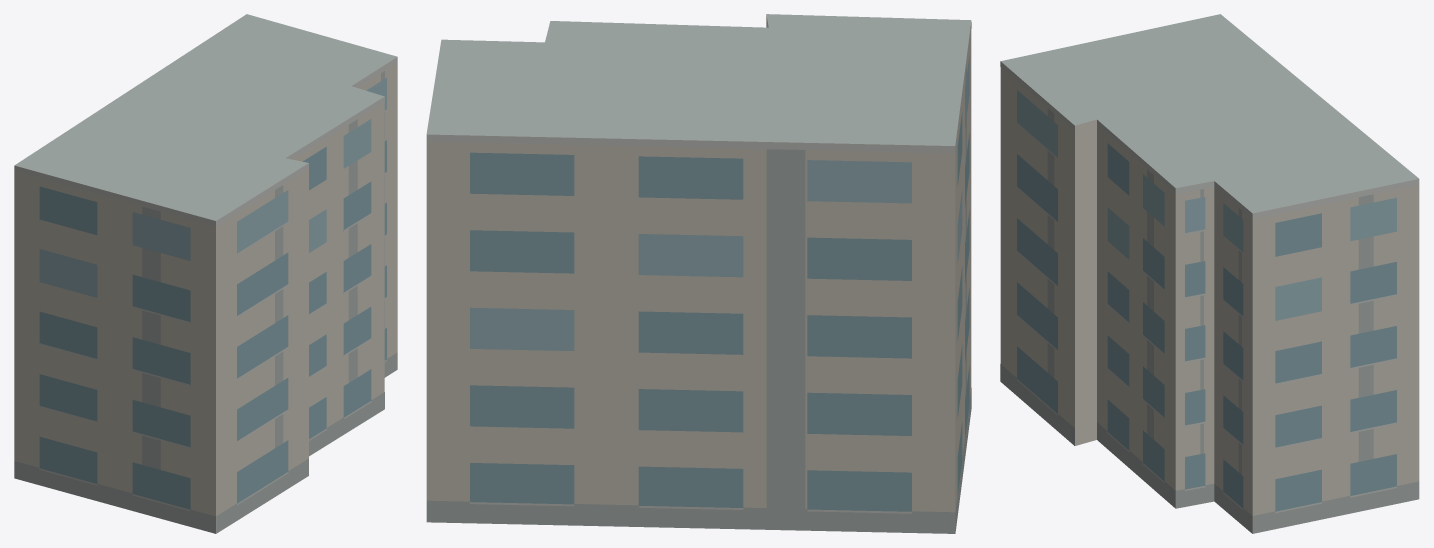
The model's file is survey-upis-32830621.glb.
3 views of the same model, side by side, from view 1: azimuth 30°, elevation 25°; view 2: azimuth 150°, elevation 25°; view 3: azimuth 270°, elevation 25° (orthographic). The views are drawn at different scales.
Parts seen in each view (by area): view 1: survey-upis-32830621.tmp; view 2: survey-upis-32830621.tmp; view 3: survey-upis-32830621.tmp.
Part boxes in pixels (x1,y1,x2,y2): survey-upis-32830621.tmp: (14, 14, 397, 533); survey-upis-32830621.tmp: (426, 14, 971, 533); survey-upis-32830621.tmp: (1000, 14, 1419, 533).
Bounding box in the file's own units: 17.63 × 13.2 × 15.65.
